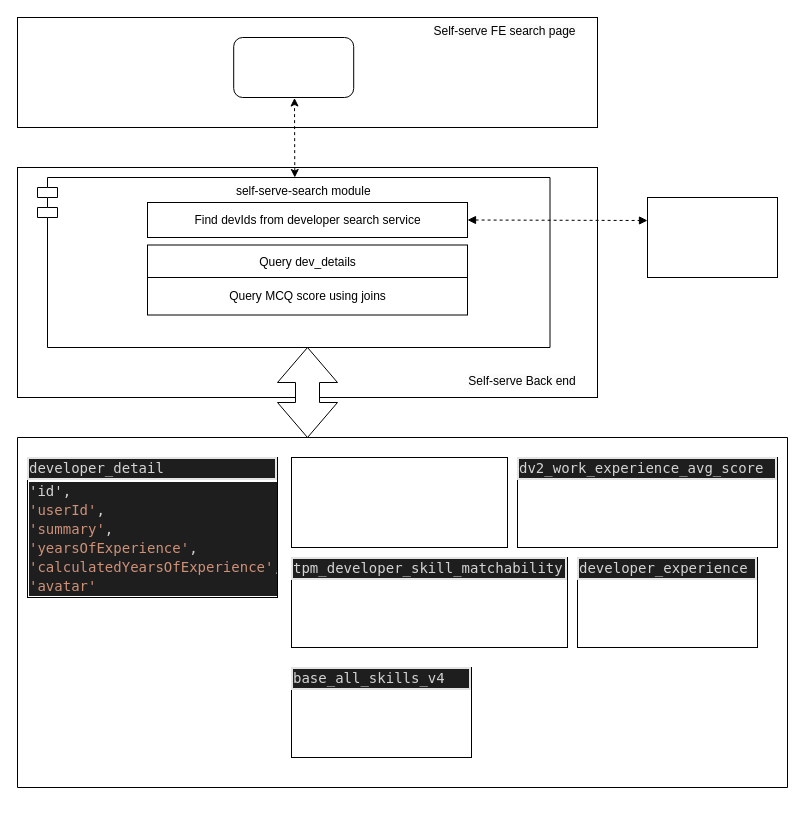
This 805x831 diagram has some shape labels left out. The shapes that lost their labels are listed below. From the top down, each one's centre as x and y in pixels, then its label:
At [293,67]: "post call - /search".
At [712,237]: "Developer search service".
At [399,502]: "tpm_developer_skill".
